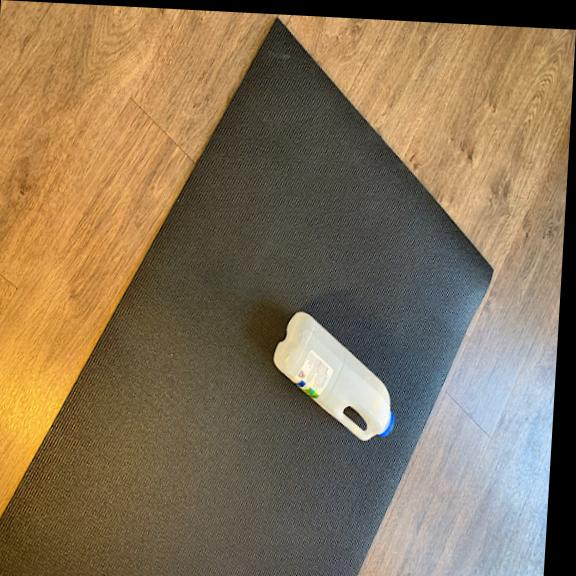Plastik: (264, 305, 401, 445)
